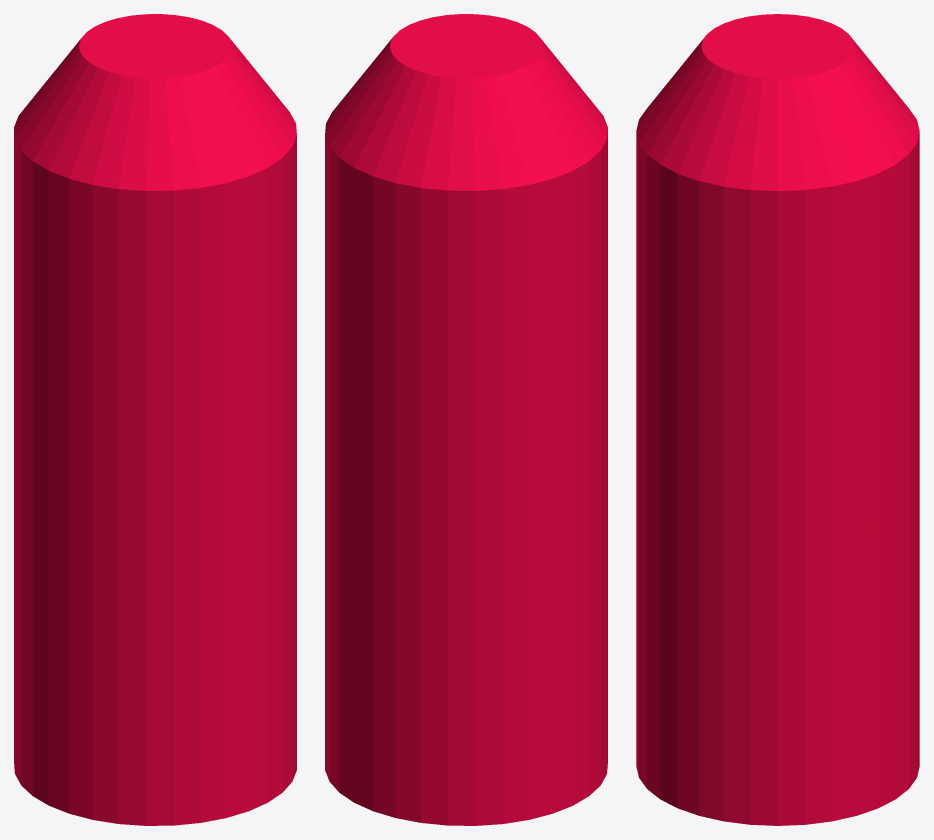
Rendered from RedBullet.fbx.
3 views of the same model, side by side, from view 1: azimuth 30°, elevation 25°; view 2: azimuth 150°, elevation 25°; view 3: azimuth 270°, elevation 25° (orthographic).
Parts seen in each view (by area): view 1: Cylinder.001; view 2: Cylinder.001; view 3: Cylinder.001.
Part boxes in pixels (x1,y1,x2,y2): Cylinder.001: [14, 14, 296, 825]; Cylinder.001: [325, 14, 607, 825]; Cylinder.001: [636, 14, 919, 825].
Bounding box in the file's own units: 30.19 × 84.56 × 30.19.
1 material, 1 textured.
